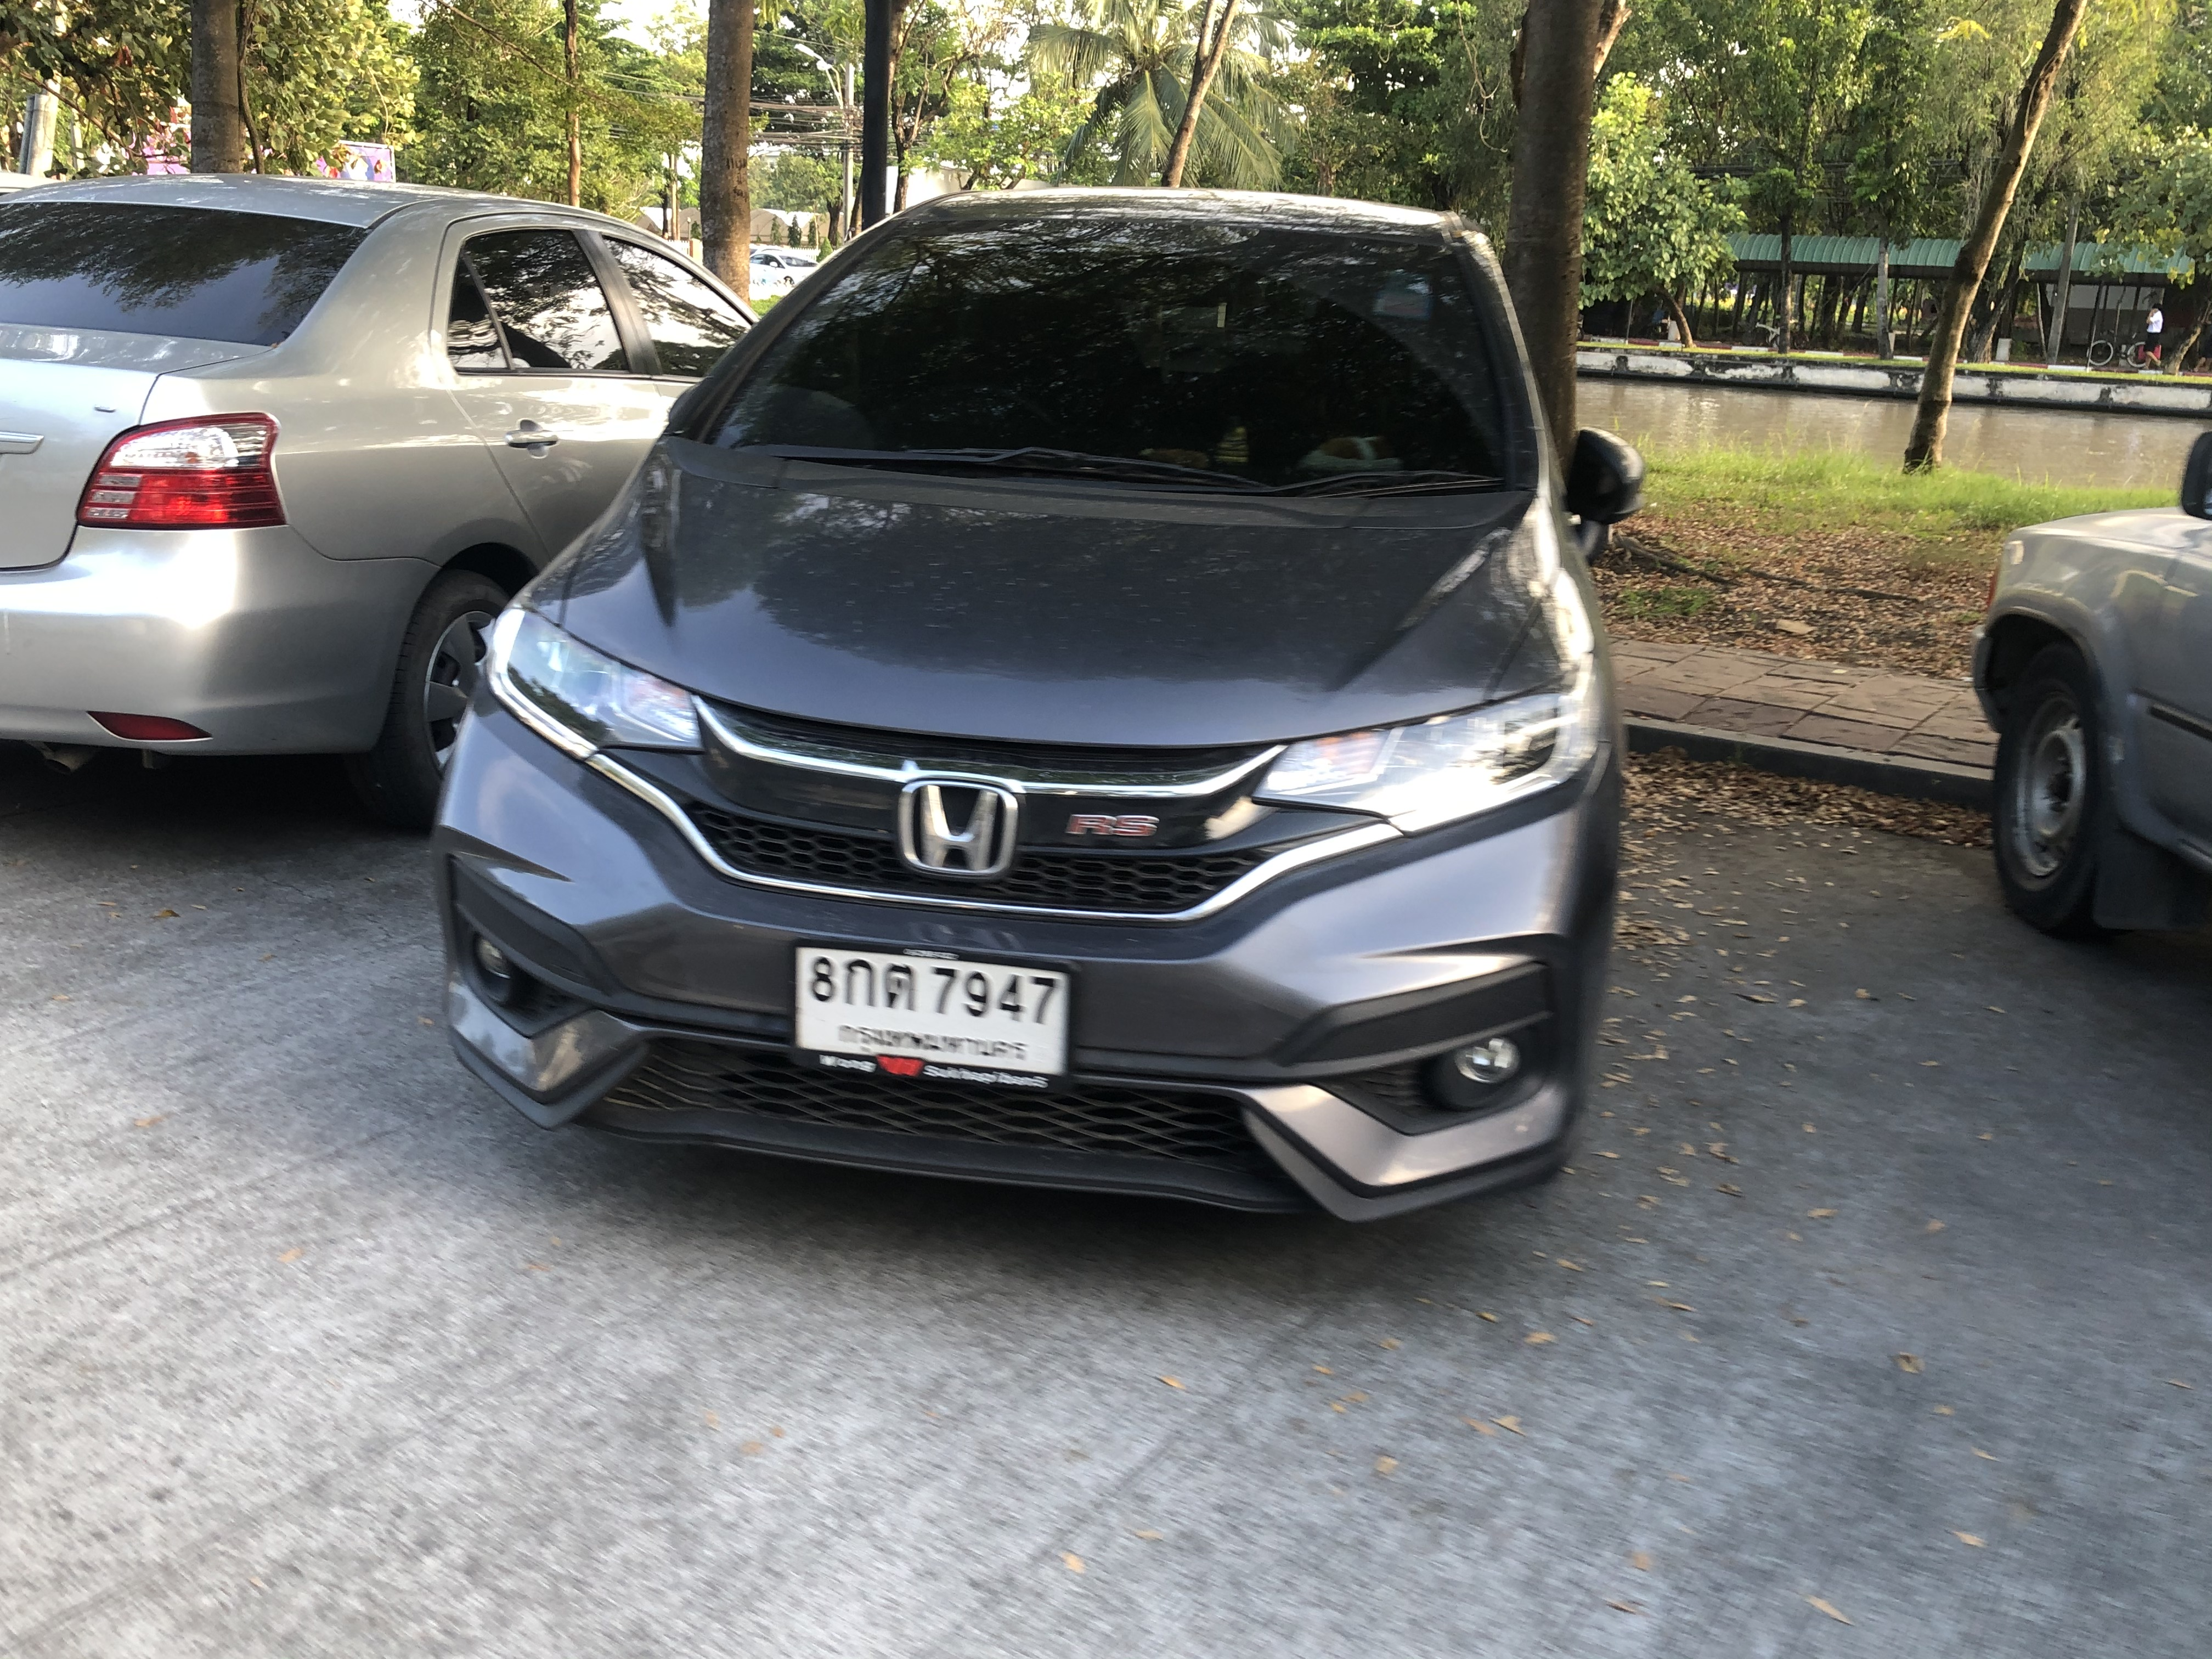in: (803, 950, 1068, 1080)
out: (784, 932, 1078, 1101)
